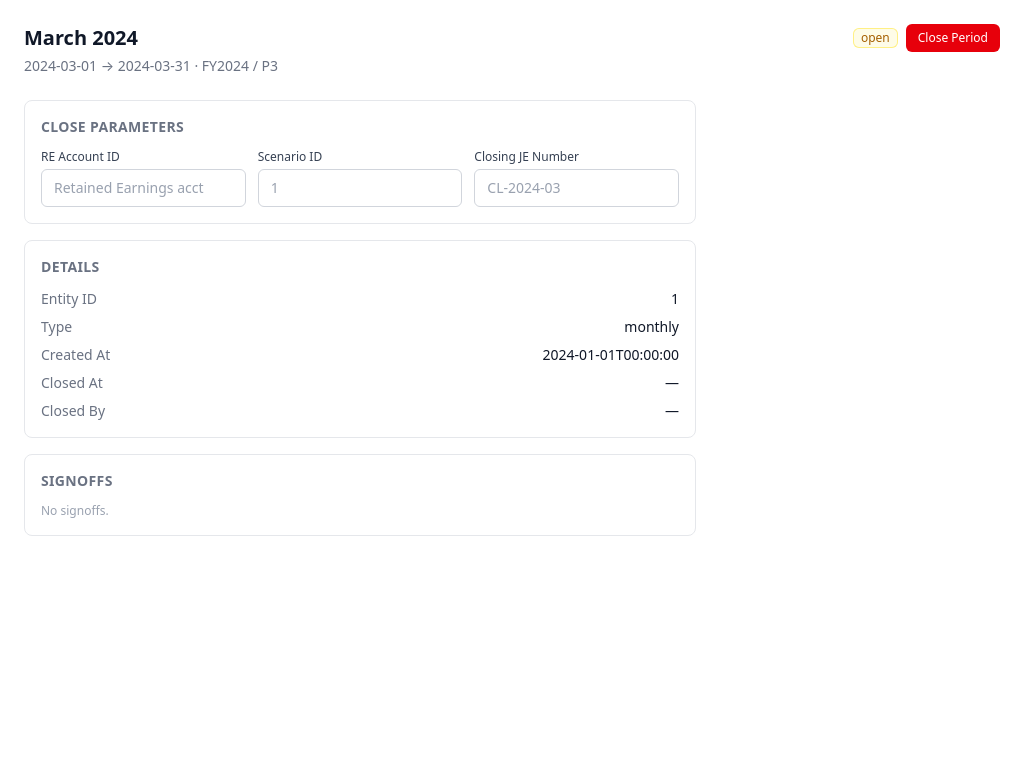
M17 proof points › PeriodDetailPage shows ErrorBanner when close mutation rejects
wait for the period to load
Click the button with test id "close-period-btn".
click(953, 38)  # box 906,24 -> 1000,52
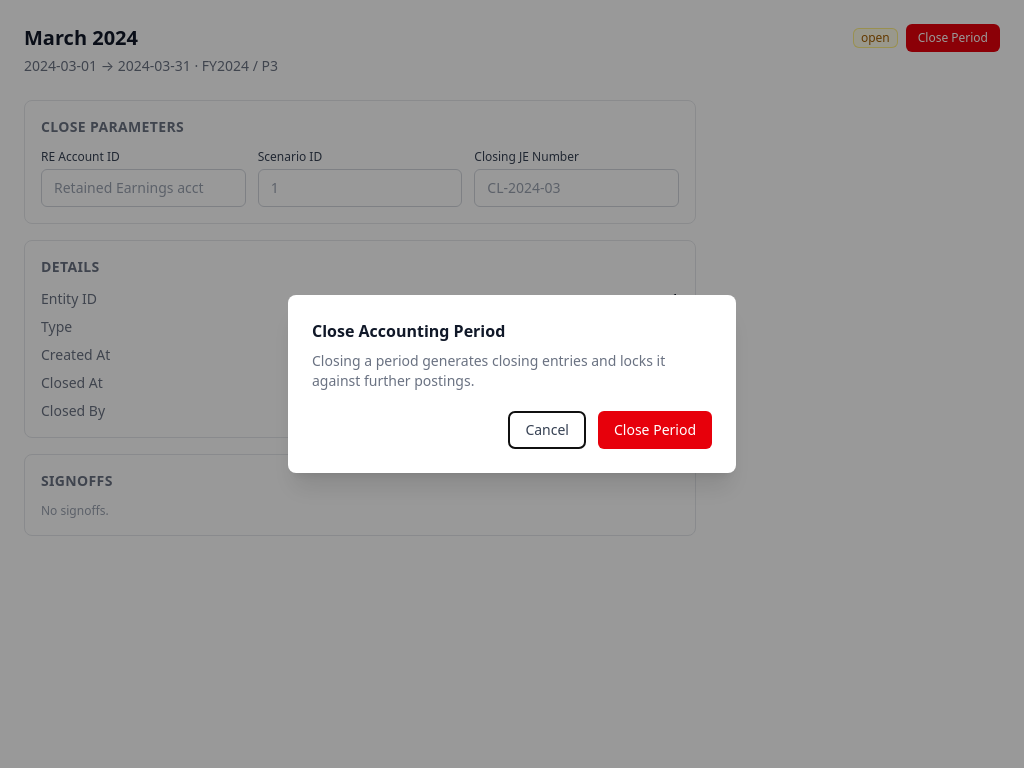
ConfirmDialog appears — find the alertdialog role, click confirm inside it
Click the button "Close Period".
click(655, 430)  # box 598,411 -> 712,449
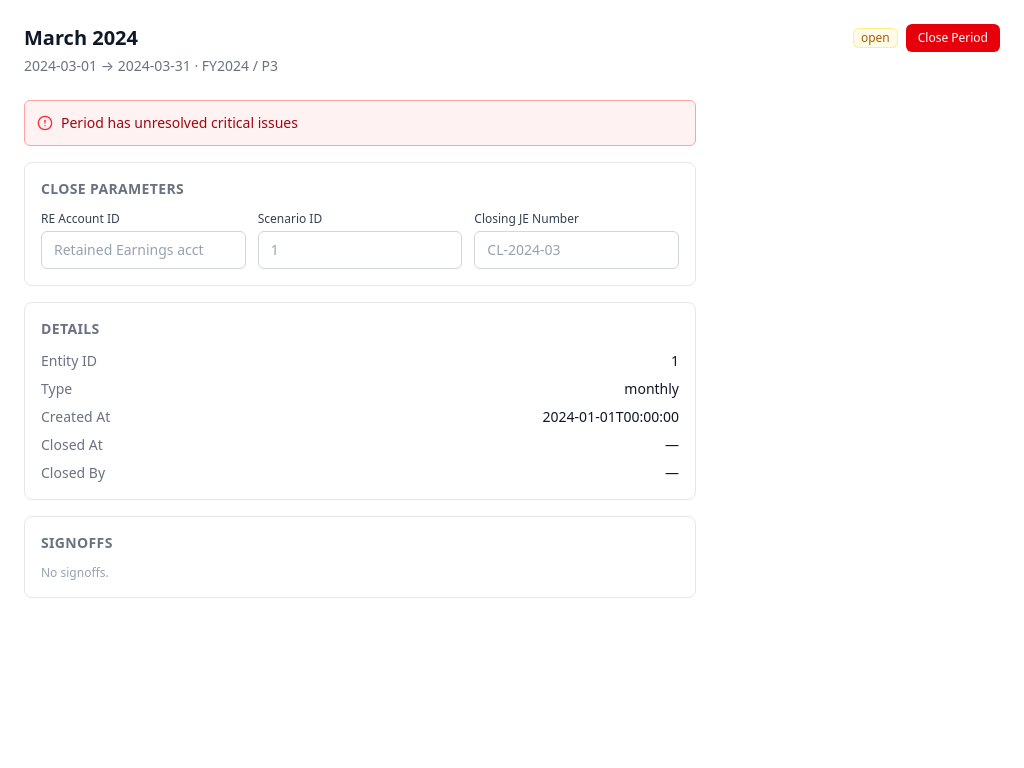
Expected: the message "Period has unresolved critical issues" is shown, 24,100 -> 696,146
Expected: the message with test id "error-banner" shows "critical issues", 61,113 -> 298,132
